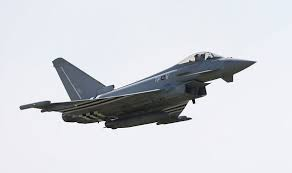fighter: (16, 46, 260, 135)
